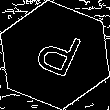P_SW: (26, 25, 84, 85)
